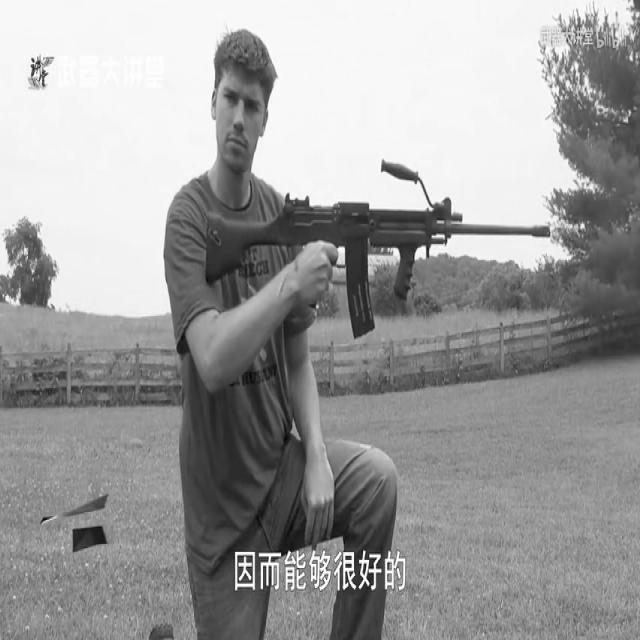Sub-machine-gun: (187, 156, 537, 347)
